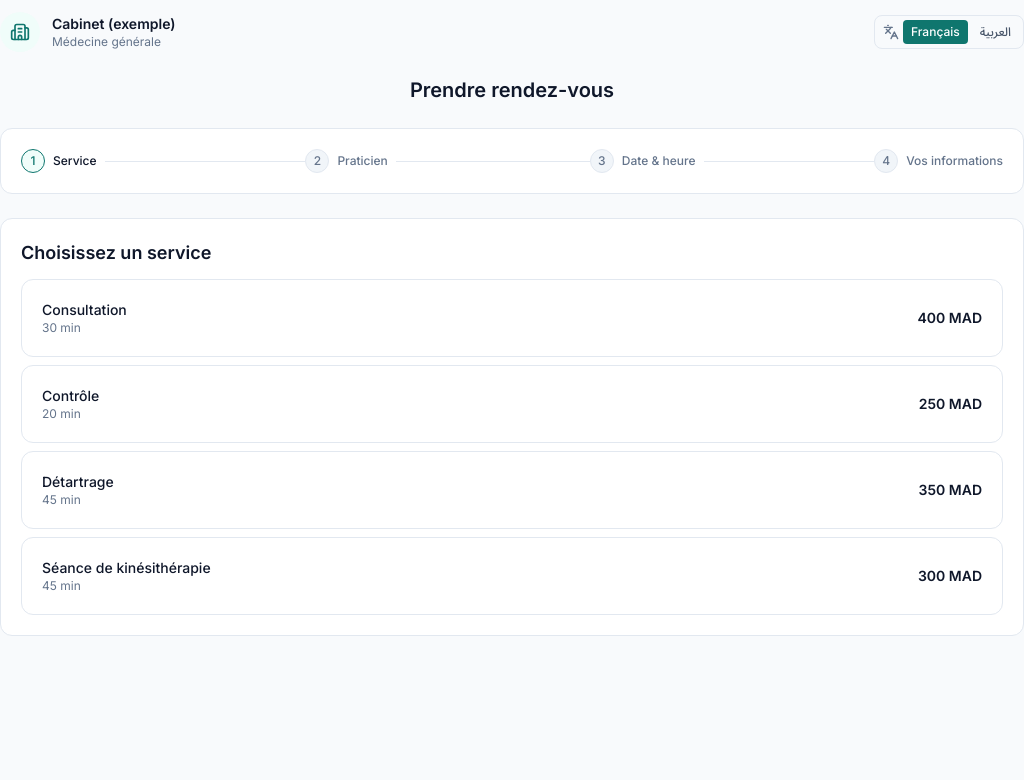
it: PublicBookingPage — service & practitioner selection (task §28-32) › shows eligible practitioners after selecting a service, never Othmane Zouiten
Click the button "Consultation 30 min 400 MAD" at x=512, y=318, box [21,279,1003,357]
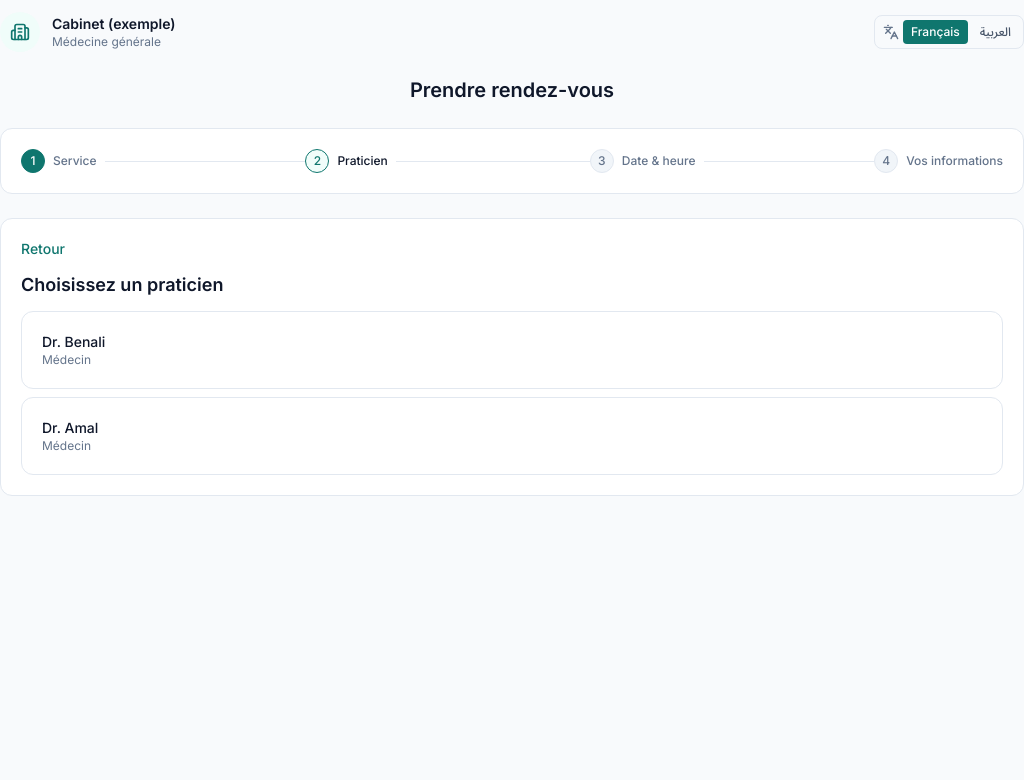
Expected: the button "Dr. Benali Médecin" is shown, [21,311,1003,389]
Expected: the button "Dr. Amal Médecin" is shown, [21,397,1003,475]
